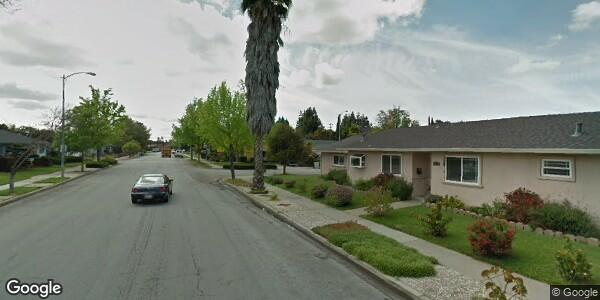Steel_Pole: (56, 69, 98, 181)
